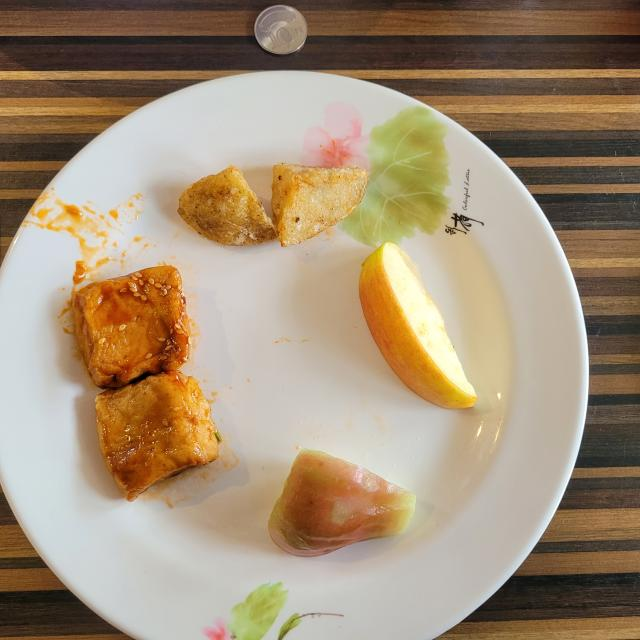apple -sliced-: (359, 242, 478, 409)
coin: (254, 5, 308, 55)
creamy tofu: (71, 265, 221, 501)
fried potato: (178, 162, 369, 246)
